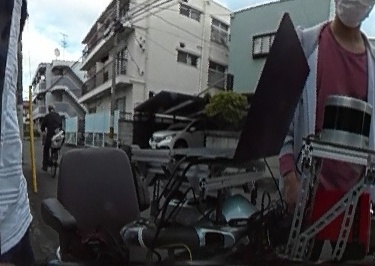person: (38, 102, 61, 172)
